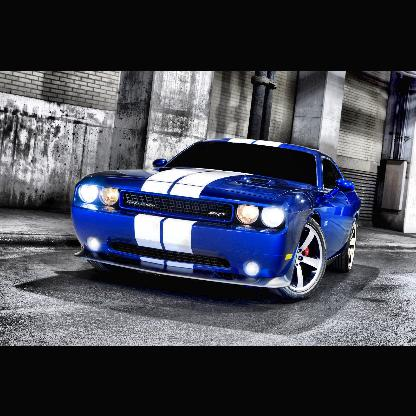Dodge Challenger SRT8 2011: (73, 138, 361, 301)
